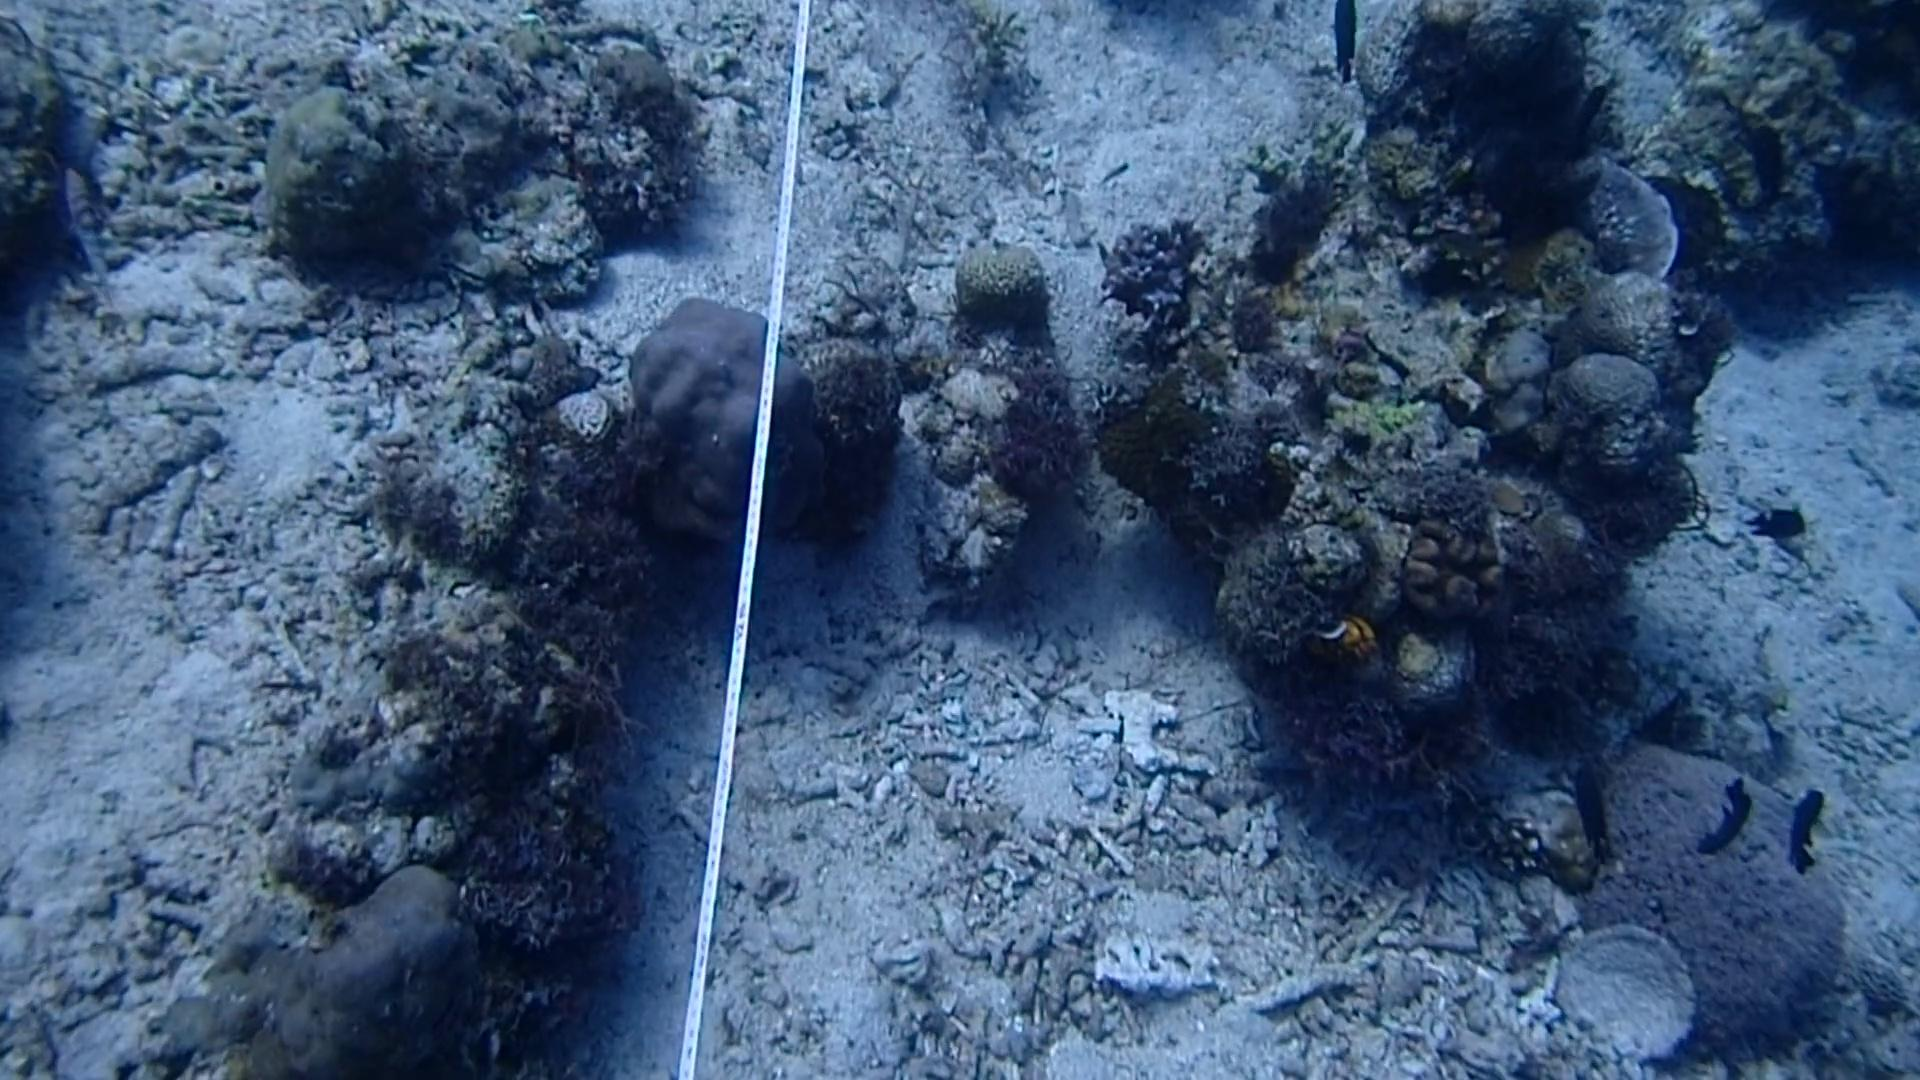Dark Fish: (1548, 753, 1626, 872), (1738, 102, 1797, 222), (1317, 0, 1381, 91), (1683, 770, 1751, 852), (1561, 69, 1626, 145), (1782, 773, 1825, 880), (1735, 491, 1811, 550)
Light Fish w Back Stripes: (42, 164, 124, 305)
